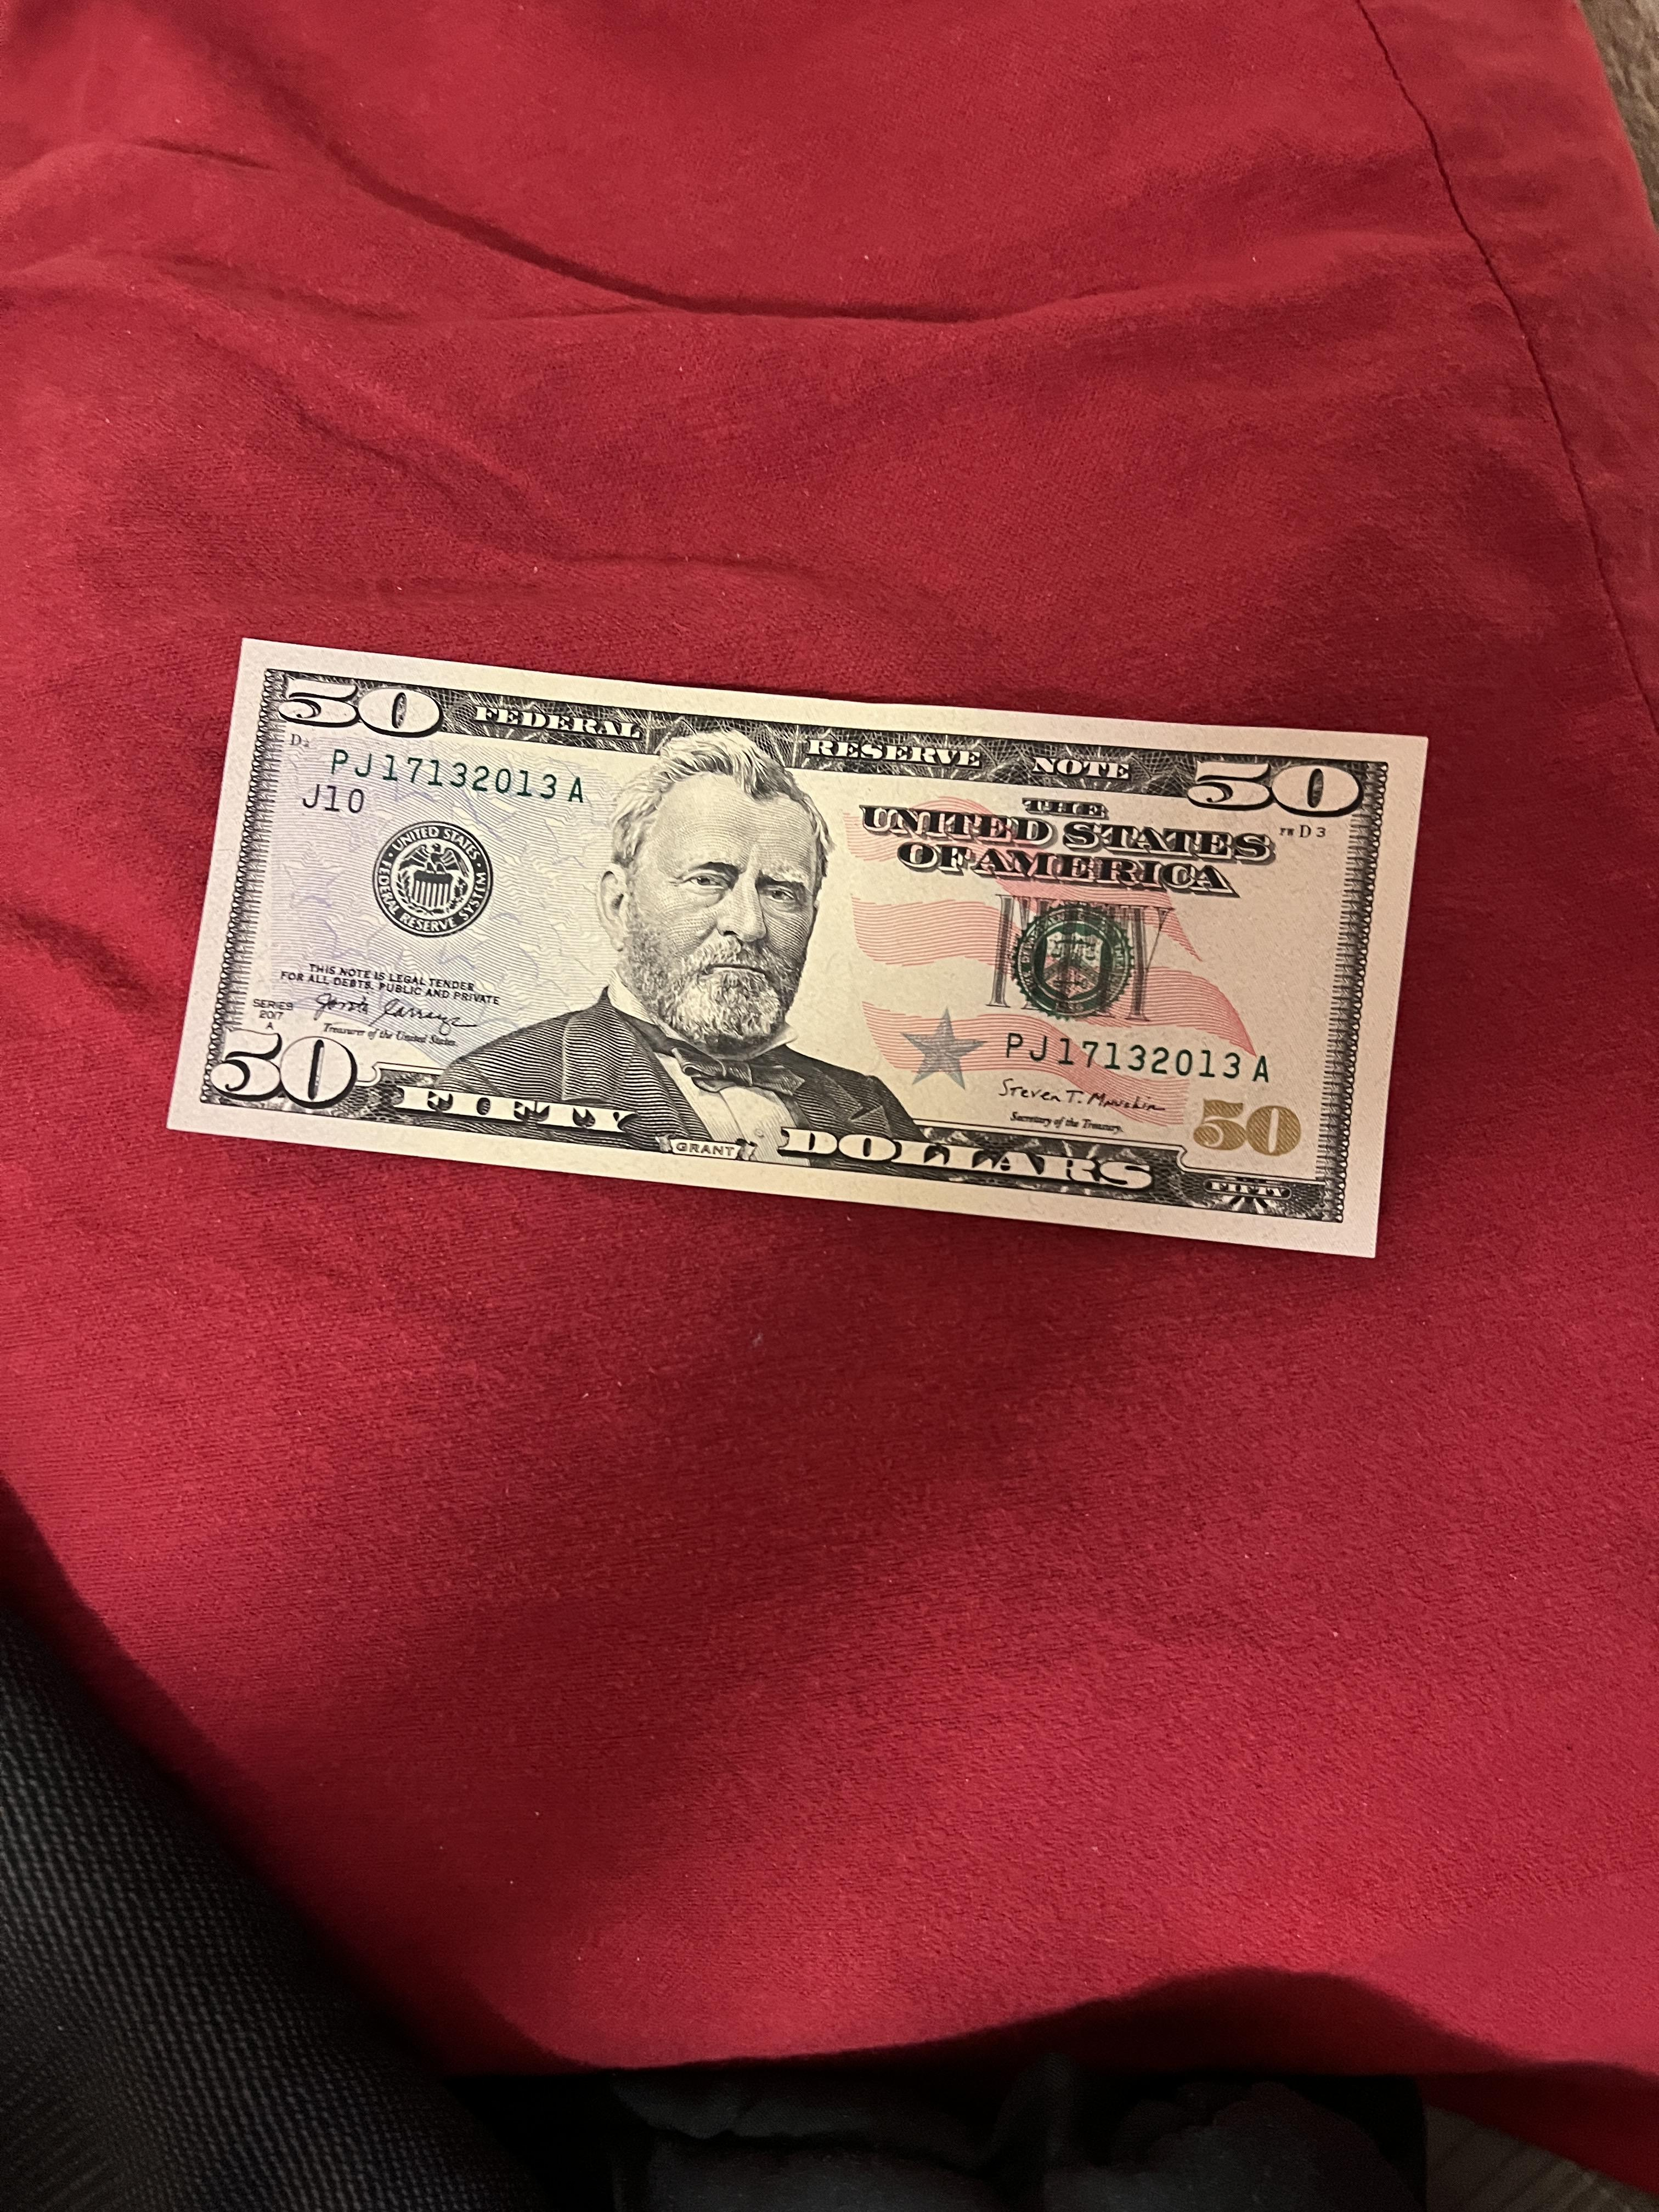FiftyBill: (152, 622, 1427, 1258)
